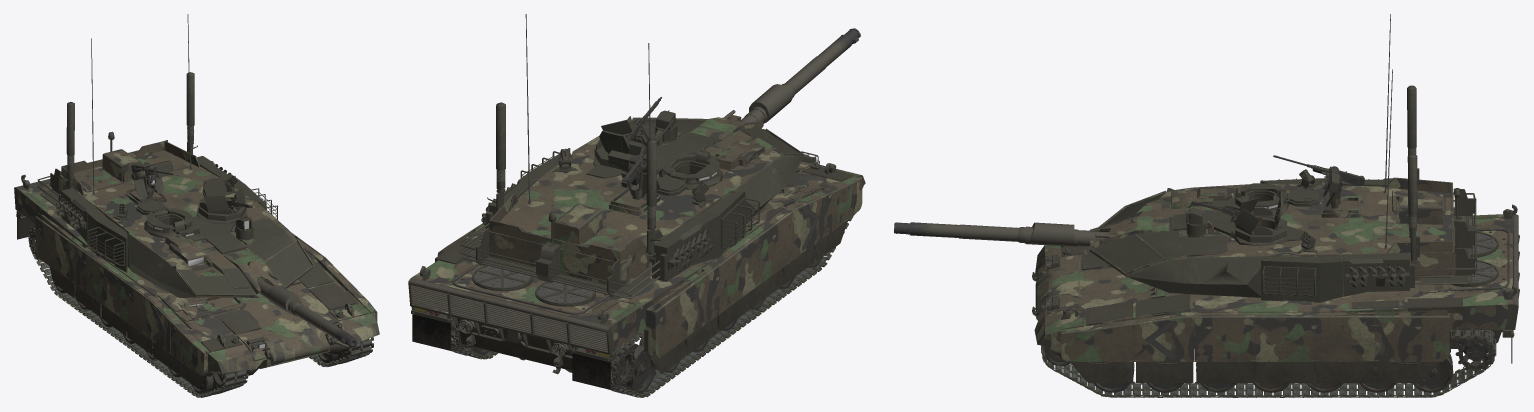
The model's file is abrams.glb.
3 views of the same model, side by side, from view 1: azimuth 30°, elevation 25°; view 2: azimuth 150°, elevation 25°; view 3: azimuth 270°, elevation 25° (orthographic). The views are drawn at different scales.
Visible parts, largest first — view 1: Object_18, Object_19, Object_11, Object_17, Object_13, Object_12, Object_9, Object_8, Object_15, Object_21, Object_2, Object_23 (+2 smaller); view 2: Object_18, Object_11, Object_19, Object_17, Object_12, Object_13, Object_9, Object_8, Object_22, Object_21, Object_15, Object_5 (+6 smaller); view 3: Object_18, Object_19, Object_11, Object_17, Object_12, Object_13, Object_8, Object_21, Object_20, Object_9, Object_15, Object_5 (+6 smaller).
Boxes of the visible parts, x1=… form: Object_18: x1=37, y1=141, x2=314, y2=297; Object_19: x1=35, y1=180, x2=377, y2=375; Object_11: x1=14, y1=179, x2=379, y2=375; Object_17: x1=55, y1=72, x2=278, y2=270; Object_13: x1=224, y1=249, x2=357, y2=347; Object_12: x1=49, y1=266, x2=212, y2=389; Object_9: x1=28, y1=227, x2=369, y2=397; Object_8: x1=37, y1=259, x2=373, y2=397; Object_15: x1=21, y1=140, x2=354, y2=360; Object_21: x1=51, y1=272, x2=342, y2=392; Object_2: x1=34, y1=226, x2=372, y2=397; Object_23: x1=67, y1=124, x2=249, y2=229; Object_18: x1=460, y1=116, x2=803, y2=298; Object_11: x1=408, y1=165, x2=865, y2=389; Object_19: x1=437, y1=161, x2=862, y2=358; Object_17: x1=481, y1=102, x2=759, y2=271; Object_12: x1=644, y1=220, x2=847, y2=373; Object_13: x1=691, y1=28, x2=860, y2=140; Object_9: x1=451, y1=216, x2=853, y2=397; Object_8: x1=451, y1=251, x2=830, y2=396; Object_22: x1=474, y1=266, x2=593, y2=302; Object_21: x1=477, y1=244, x2=822, y2=393; Object_15: x1=420, y1=151, x2=836, y2=374; Object_5: x1=452, y1=206, x2=819, y2=314; Object_18: x1=1090, y1=177, x2=1476, y2=302; Object_19: x1=1034, y1=229, x2=1513, y2=361; Object_11: x1=1034, y1=214, x2=1519, y2=363; Object_17: x1=1161, y1=85, x2=1461, y2=296; Object_12: x1=1056, y1=330, x2=1450, y2=382; Object_13: x1=894, y1=216, x2=1169, y2=247; Object_8: x1=1042, y1=330, x2=1495, y2=397; Object_21: x1=1093, y1=341, x2=1452, y2=392; Object_20: x1=1045, y1=330, x2=1495, y2=372; Object_9: x1=1047, y1=330, x2=1494, y2=397; Object_15: x1=1032, y1=204, x2=1517, y2=333; Object_5: x1=1145, y1=228, x2=1509, y2=359.
Size of the model in its own units: 5.01 by 6.96 by 12.74.
Materials: 21 (20 with a texture image).
